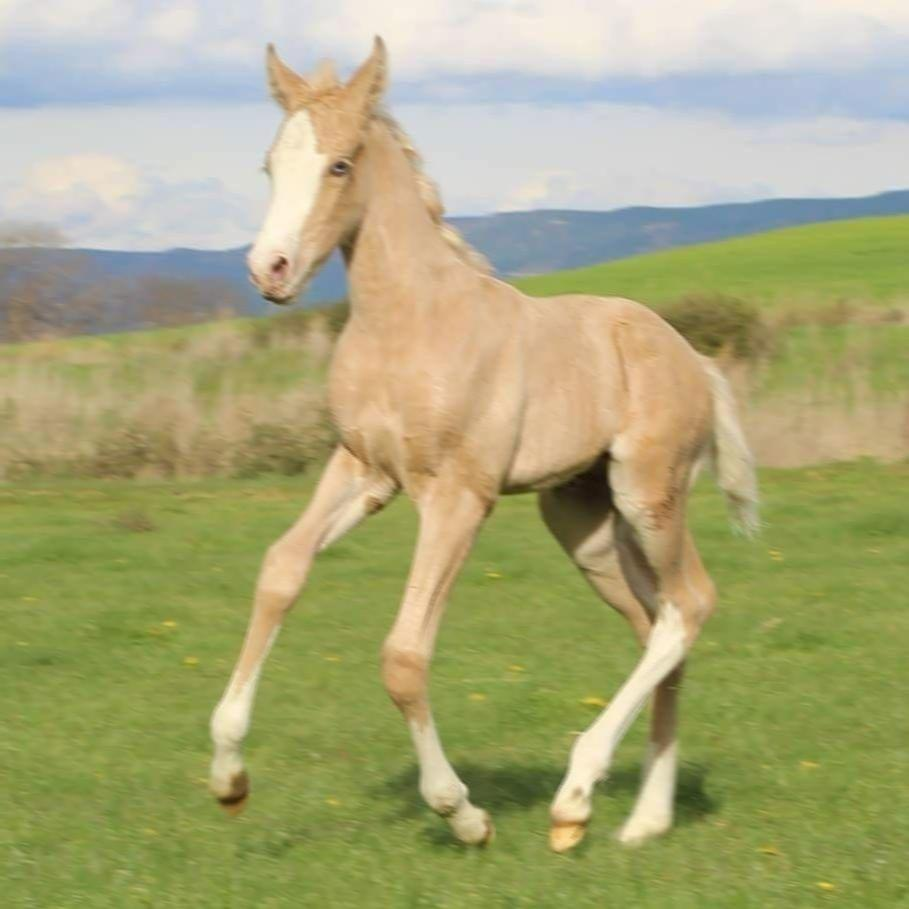horse: (205, 32, 762, 852)
